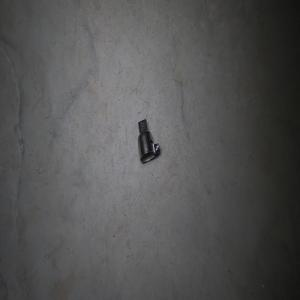MetalPart: (137, 117, 160, 162)
